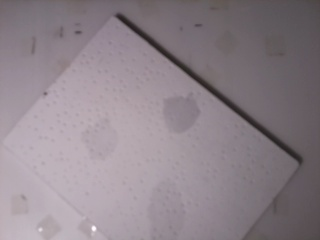Water_detected: (89, 126, 117, 161), (173, 104, 195, 137), (152, 189, 177, 218)
